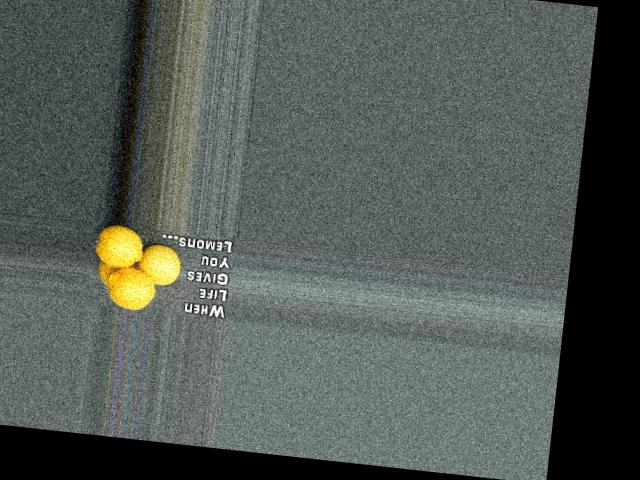lemon: (93, 226, 147, 269)
